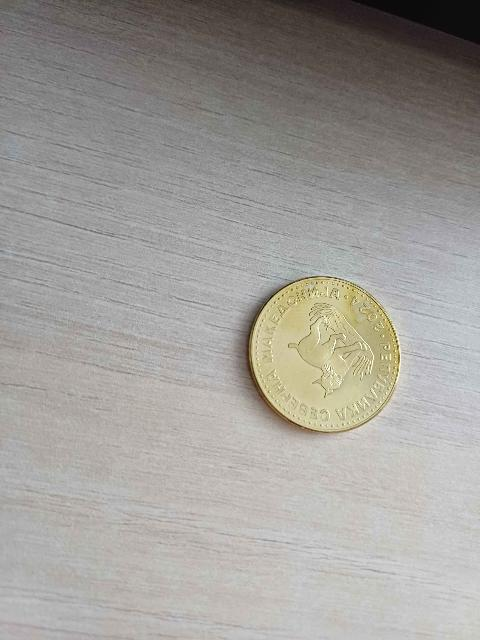5_coin: (250, 277, 399, 431)
